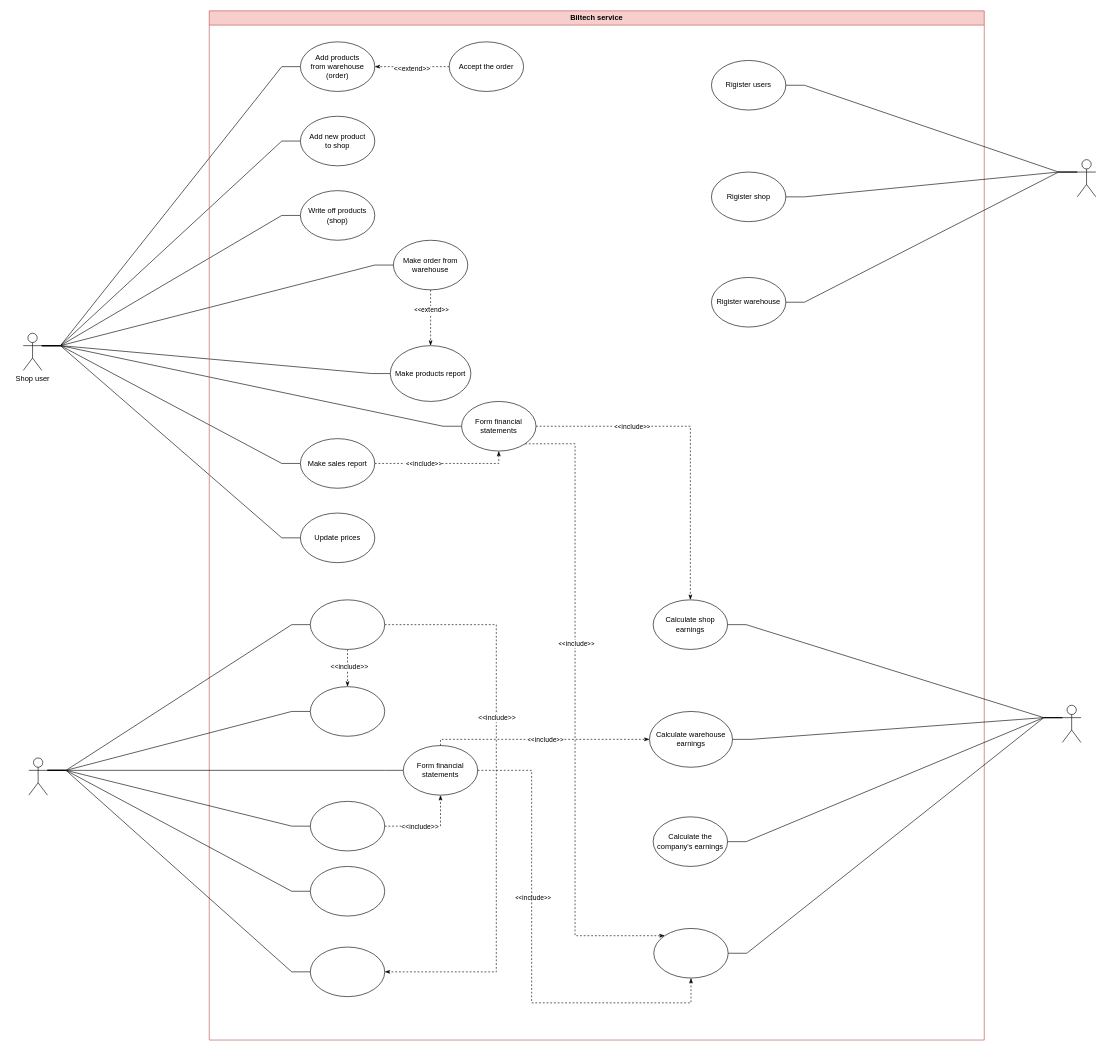
Image size: 1108x1051. Some labels were removed from this diagram. The shapes that lost their labels are listed below. From the top down, each one's box as (x1, y1, x2, y2) in pixels, then its label:
(1077, 159, 1096, 197): Owner
(310, 599, 385, 649): Form orders
(310, 686, 385, 736): Make products report (warehouse)
(1062, 705, 1081, 742): Accountant
(28, 757, 47, 795): Warehouse user
(310, 801, 385, 851): Make orders report (warehouse)
(310, 866, 385, 916): Add new product to warehouse
(310, 946, 385, 997): Write off products (warehouse)
(653, 928, 728, 978): Calculate taxes
